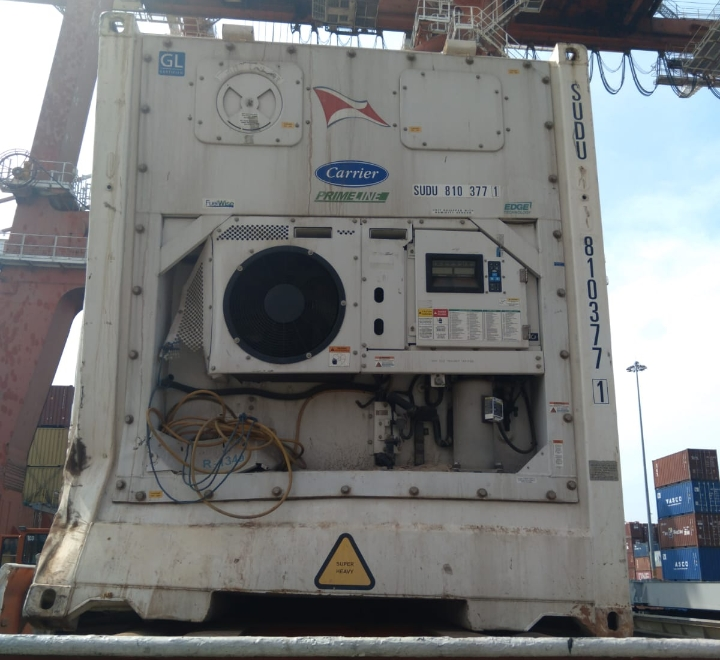moderate: (41, 375, 150, 554)
